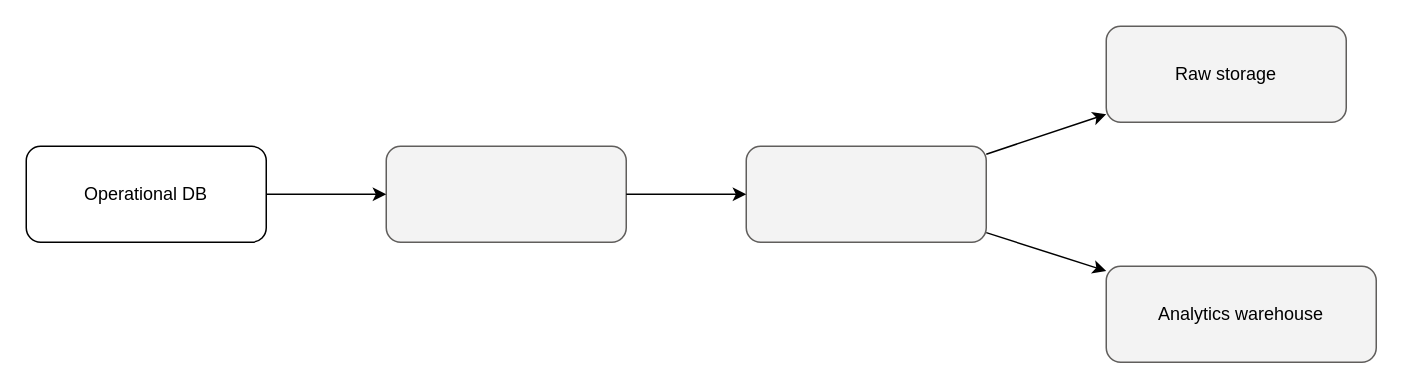
This 1403x389 diagram has some shape labels left out. The centre of each missing label's shape, as x and y in pixels:
"CDC capture" goes at point (505, 193).
"Change stream" goes at point (865, 193).
